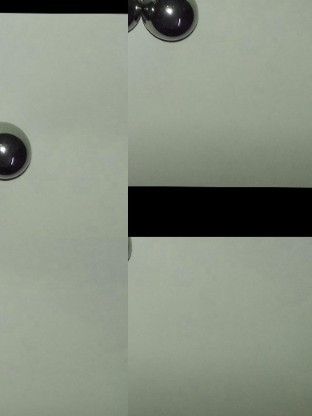ironball: (140, 0, 200, 46), (0, 115, 33, 181), (123, 1, 147, 40)
